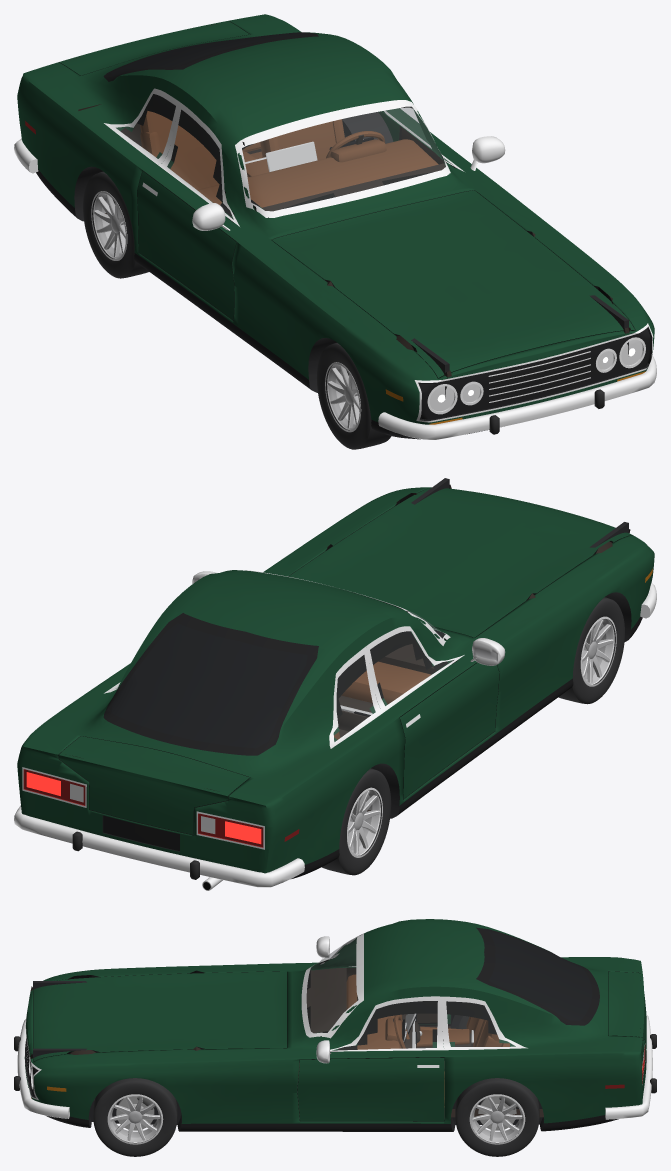
File: apex.glb
The picture shows the model from 3 angles, top to bottom: view 1: azimuth 30°, elevation 25°; view 2: azimuth 150°, elevation 25°; view 3: azimuth 270°, elevation 25°; orthographic projection. The views are drawn at different scales.
Visible parts, largest first — view 1: body, bonnet_body, glass_windshield, interior, door_R_body, bumpers, wheel_FR_mesh, door_R_glass_side_R, wheel_RR_mesh, boot_body, glass_side_R, mirror_L (+3 smaller); view 2: body, bonnet_body, boot_body, door_R_body, bumpers, wheel_RR_mesh, door_R_glass_side_R, wheel_FR_mesh, interior, glass_side_R, mirror_R, bays; view 3: body, bonnet_body, door_L_body, interior, wheel_FL_mesh, wheel_RL_mesh, glass_windshield, door_L_glass_side_L, glass_side_L, bumpers, boot_body, bays.
Part boxes in pixels (bbox=[...]): body: bbox=[17, 14, 654, 439]; bonnet_body: bbox=[271, 190, 635, 378]; glass_windshield: bbox=[235, 100, 450, 217]; interior: bbox=[78, 104, 445, 214]; door_R_body: bbox=[137, 171, 236, 320]; bumpers: bbox=[14, 138, 656, 439]; wheel_FR_mesh: bbox=[316, 343, 391, 449]; door_R_glass_side_R: bbox=[158, 101, 239, 226]; wheel_RR_mesh: bbox=[83, 171, 148, 278]; boot_body: bbox=[59, 21, 249, 75]; glass_side_R: bbox=[104, 88, 177, 164]; mirror_L: bbox=[470, 136, 505, 170]; body: bbox=[17, 487, 654, 878]; bonnet_body: bbox=[288, 484, 633, 637]; boot_body: bbox=[58, 736, 249, 834]; door_R_body: bbox=[399, 662, 499, 799]; bumpers: bbox=[14, 582, 656, 887]; wheel_RR_mesh: bbox=[322, 768, 391, 875]; door_R_glass_side_R: bbox=[363, 626, 464, 711]; wheel_FR_mesh: bbox=[558, 597, 624, 704]; interior: bbox=[334, 644, 436, 811]; glass_side_R: bbox=[329, 648, 383, 748]; mirror_R: bbox=[470, 638, 505, 665]; bays: bbox=[411, 478, 628, 636]; body: bbox=[24, 919, 646, 1131]; bonnet_body: bbox=[30, 970, 287, 1061]; door_L_body: bbox=[297, 1057, 444, 1121]; interior: bbox=[298, 967, 543, 1117]; wheel_FL_mesh: bbox=[93, 1078, 177, 1156]; wheel_RL_mesh: bbox=[455, 1078, 539, 1156]; glass_windshield: bbox=[301, 933, 363, 1038]; door_L_glass_side_L: bbox=[330, 996, 447, 1051]; glass_side_L: bbox=[442, 996, 527, 1050]; bumpers: bbox=[14, 1014, 656, 1119]; boot_body: bbox=[608, 971, 646, 1059]; bays: bbox=[33, 981, 178, 1103].
Size of the model in its own units: 2 by 1.3 by 4.65.
